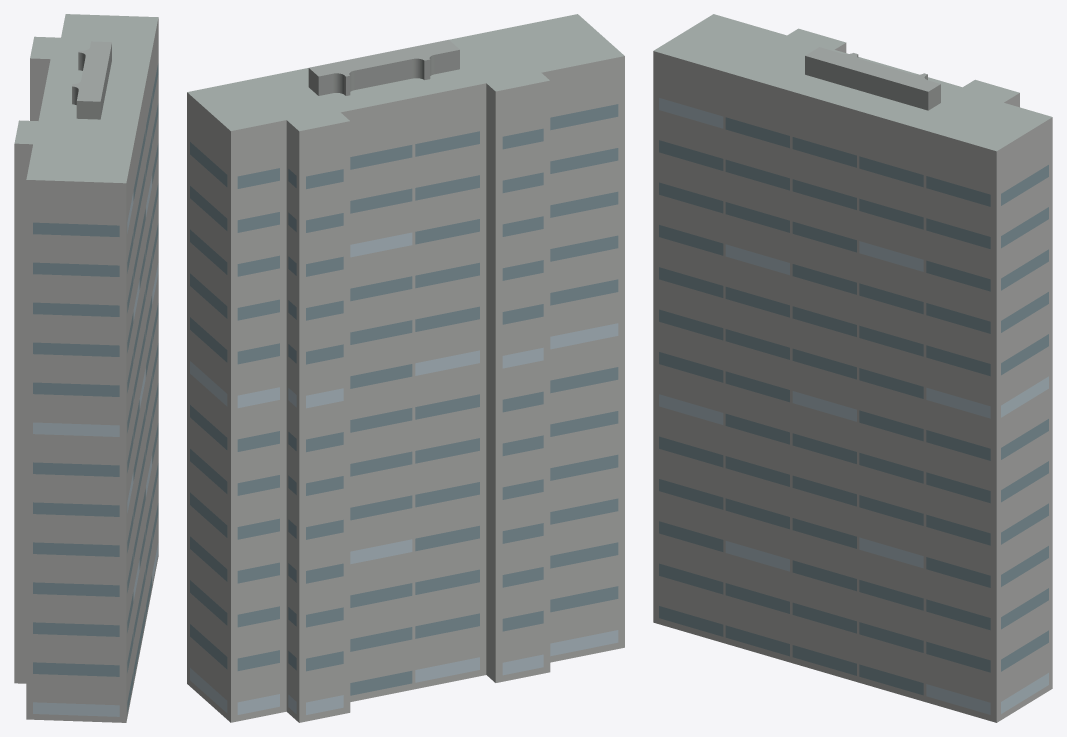
File: fallback-jamsil-trizium-317.glb
3 renders of one model, left to right at view 1: azimuth 30°, elevation 25°; view 2: azimuth 150°, elevation 25°; view 3: azimuth 270°, elevation 25°, orthographic. The views are drawn at different scales.
Parts seen in each view (by area): view 1: fallback-jamsil-trizium-317; view 2: fallback-jamsil-trizium-317; view 3: fallback-jamsil-trizium-317.
Boxes of the visible parts, bbox=[...] form: fallback-jamsil-trizium-317: bbox=[14, 14, 158, 722]; fallback-jamsil-trizium-317: bbox=[187, 14, 624, 722]; fallback-jamsil-trizium-317: bbox=[653, 14, 1052, 722].
Size of the model in its own units: 37.42 by 75 by 46.
